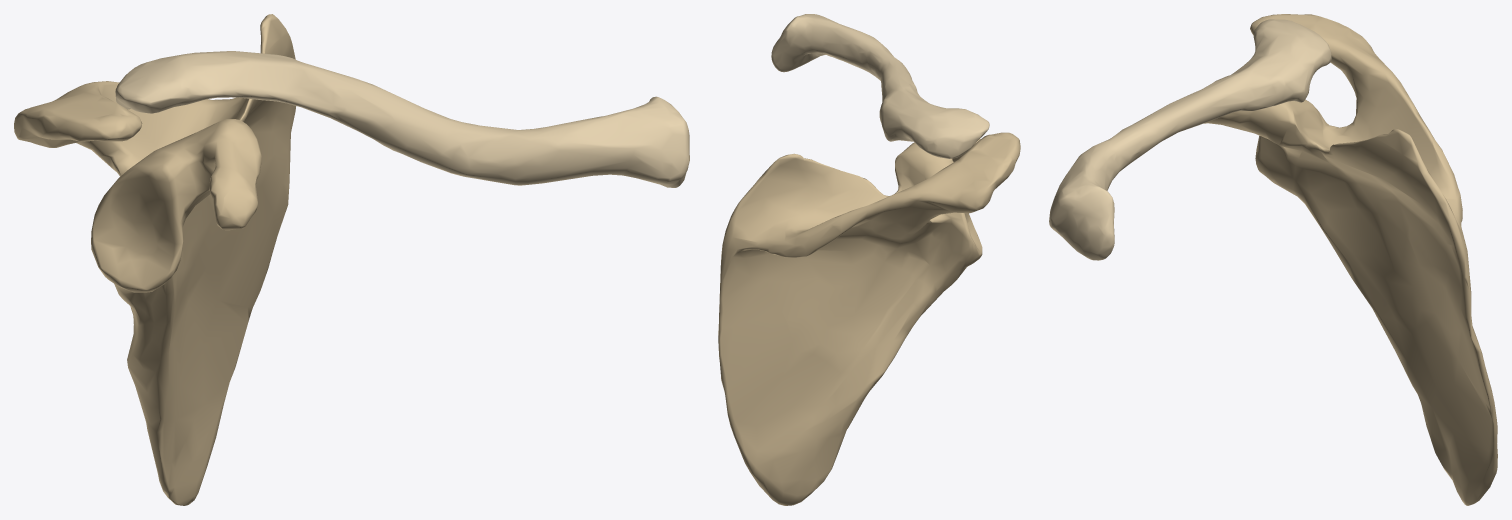
File: r-shoulder.glb
3 views of the same model, side by side, from view 1: azimuth 30°, elevation 25°; view 2: azimuth 150°, elevation 25°; view 3: azimuth 270°, elevation 25° (orthographic). The views are drawn at different scales.
Visible parts, largest first — view 1: right-scapula, right-clavicle; view 2: right-scapula, right-clavicle; view 3: right-scapula, right-clavicle.
Part boxes in pixels (x1,y1,x2,y2): right-scapula: [14, 14, 296, 505]; right-clavicle: [115, 51, 689, 187]; right-scapula: [718, 132, 1020, 505]; right-clavicle: [771, 14, 989, 158]; right-scapula: [1204, 14, 1497, 505]; right-clavicle: [1049, 19, 1331, 260].
Size of the model in its own units: 0.393 by 0.4133 by 0.3952.
